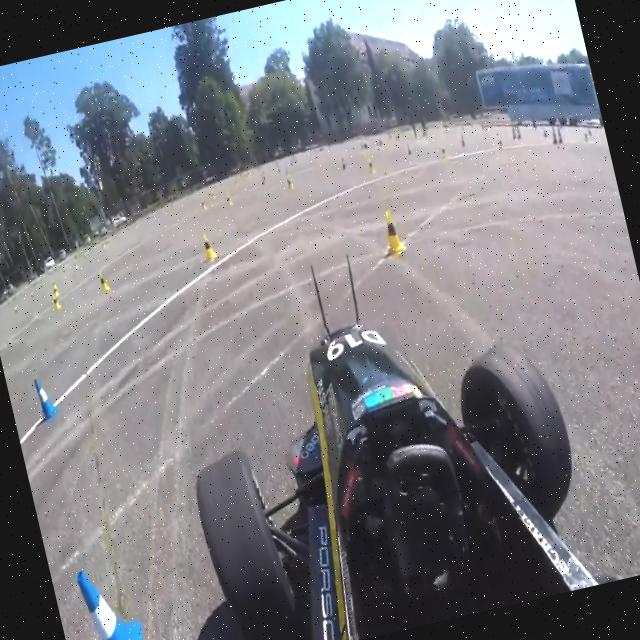blue_cone: (74, 558, 156, 640), (32, 374, 59, 422)
yellow_cone: (379, 207, 407, 256), (200, 231, 218, 262)
